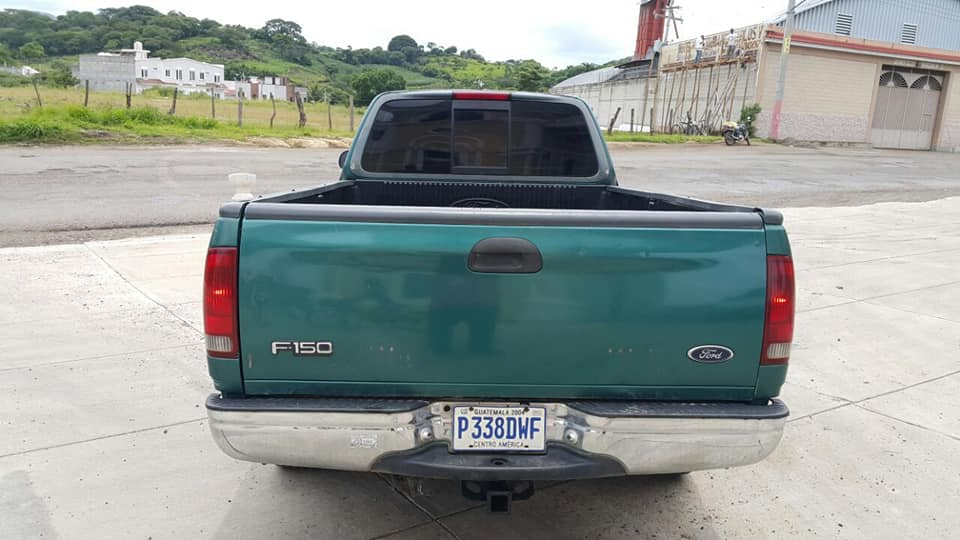pickup: (209, 85, 801, 523)
